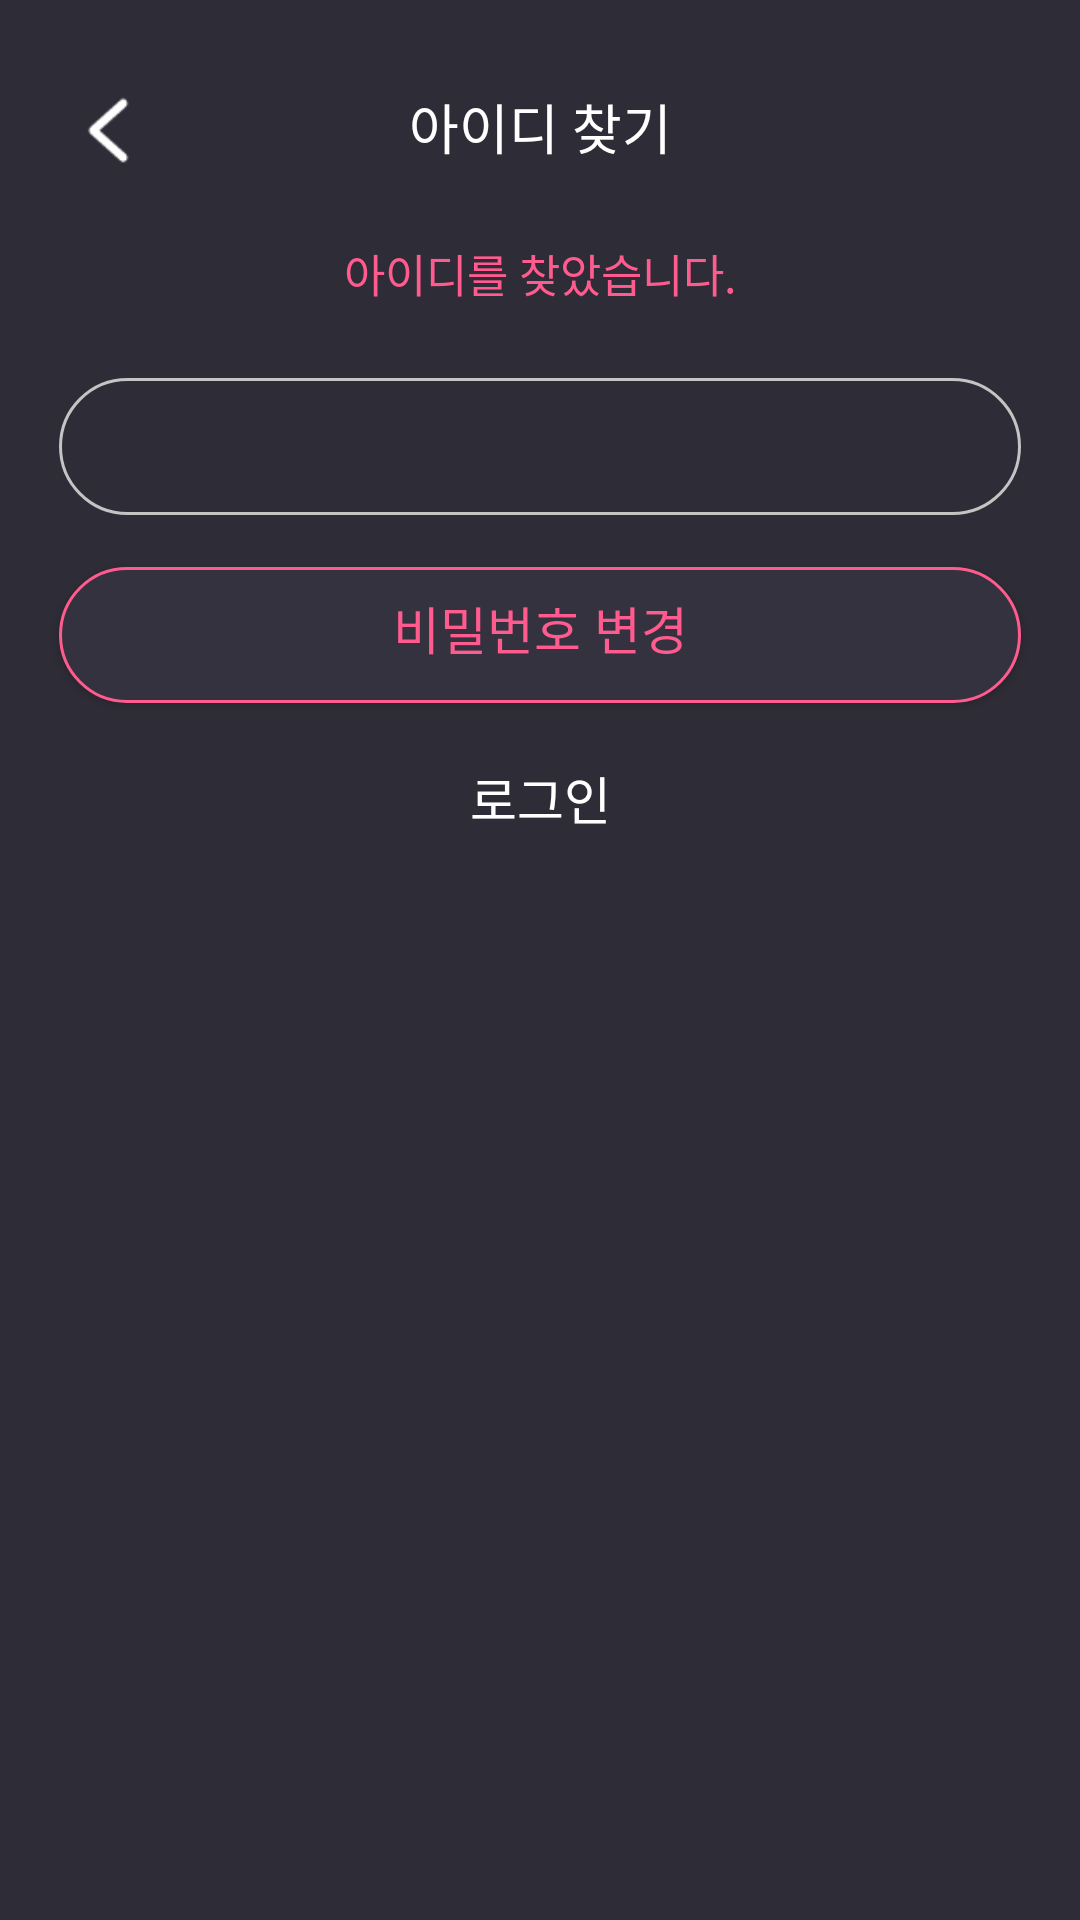

Where to tap for icons on this 1080px x 1920px app screen, as (x,y):
arrow left resize: (108,130)
